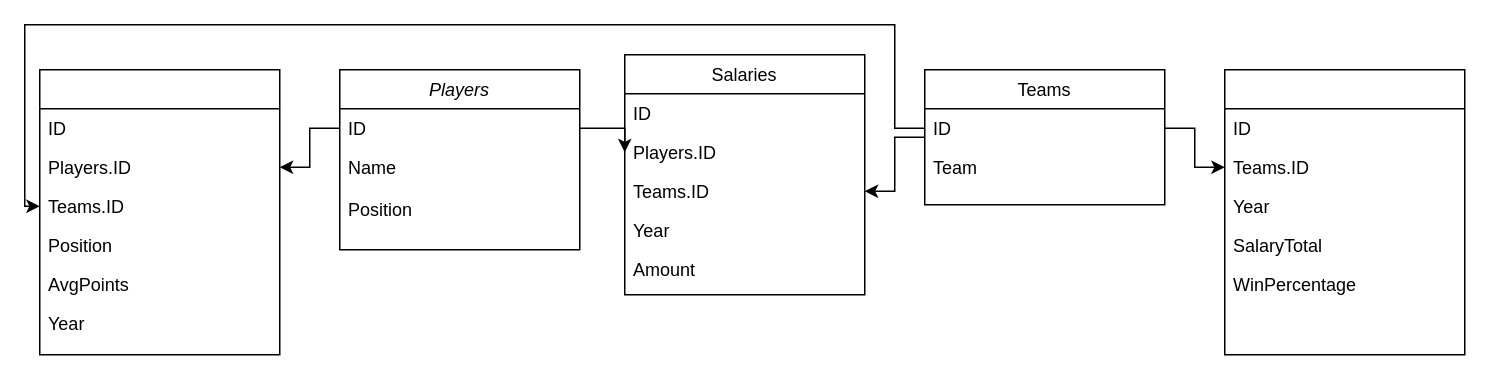
The diagram is 1490 pixels wide and 380 high, and some of its shapes have lost their labels. Here are the shapes that lost their labels. From the top down, the box of each, then its label:
(38, 68, 280, 355): PlayerStats
(1223, 68, 1465, 355): TeamStats
